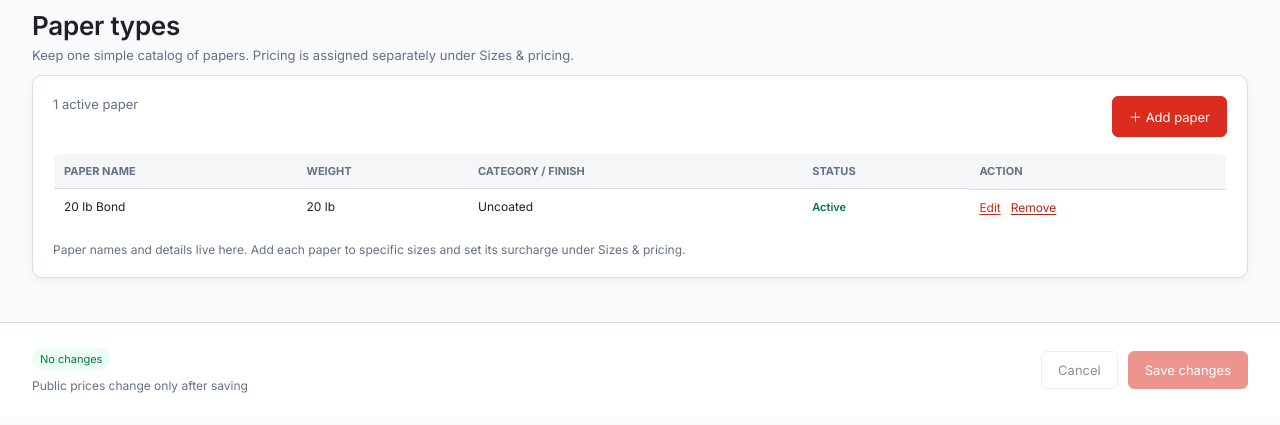
Test: AdminPricing toolbar › tracks dirty state and cancels back to the loaded pricing
Expected: the text "20 lb Bond" is shown, 54,188 -> 296,225
Expected: the text "No changes" is shown, 32,348 -> 110,370
Step 1. Click the button "Edit" → (990, 207), box 979,200 -> 1001,214
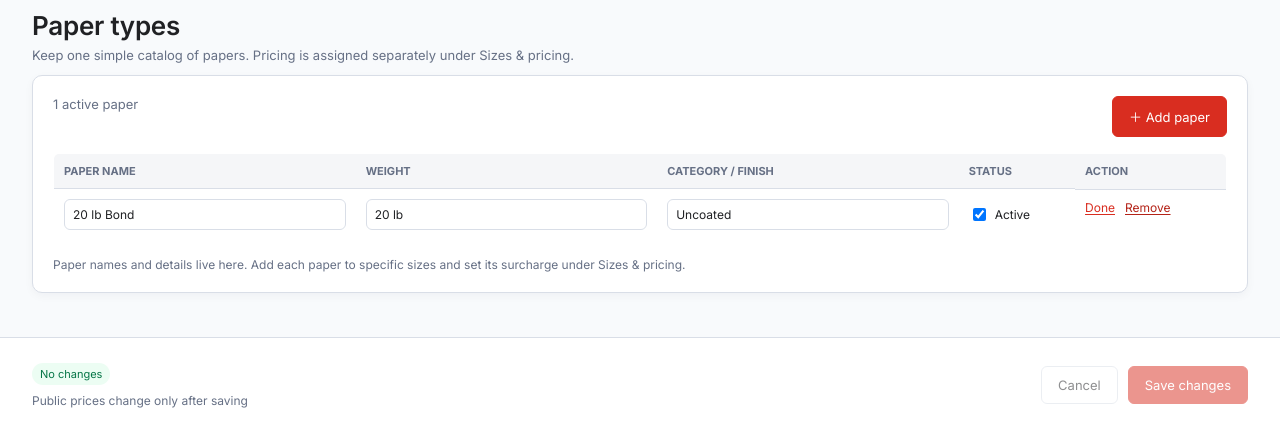
Step 2. Replace the text in the field named "Paper name" with "Premium Bond" → (205, 214), box 64,199 -> 346,230
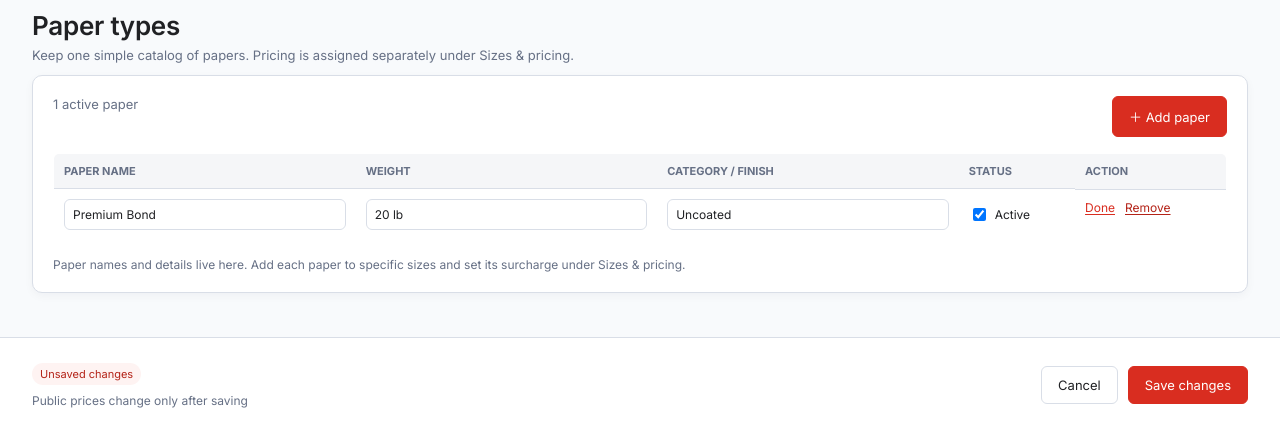
Now the text "Unsaved changes" is shown, box 32,363 -> 141,385
Now the button "Cancel" is enabled
Now the button "Save changes" is enabled, box 1128,366 -> 1248,404
Step 3. Click the button "Cancel" → (1079, 385), box 1041,366 -> 1118,404
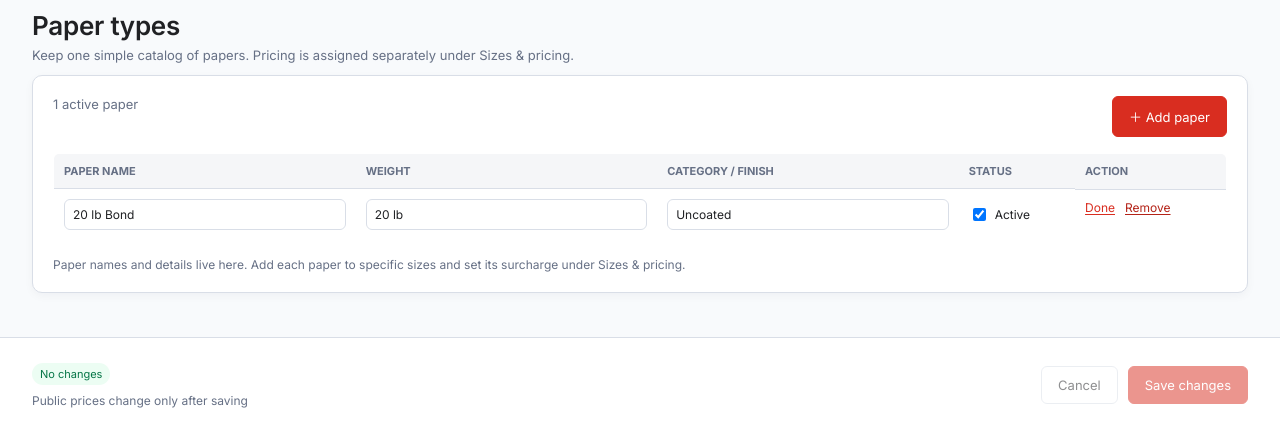
Now the field named "Paper name" holds "20 lb Bond", box 64,199 -> 346,230
Now the text "No changes" is shown, box 32,363 -> 110,385
Now the button "Cancel" is disabled, box 1041,366 -> 1118,404
